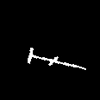double_crochet: (28, 48, 85, 69)
